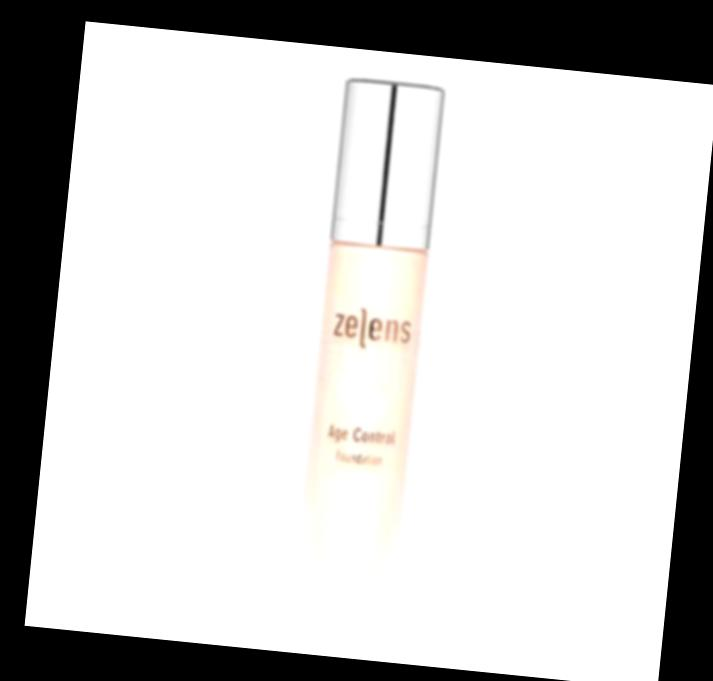cosmetic: (289, 75, 449, 642)
